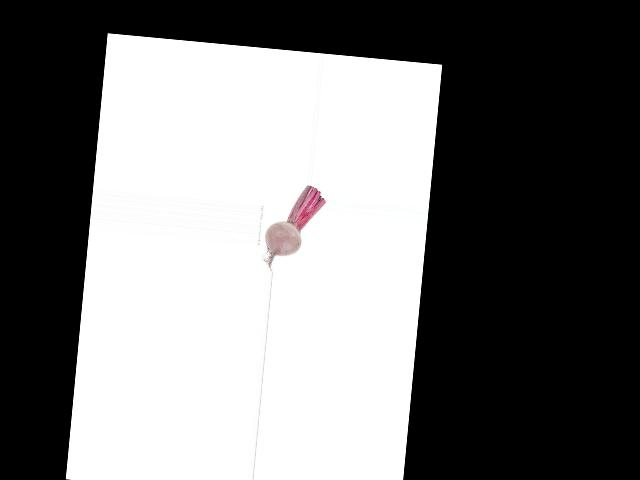beet: (262, 181, 326, 275)
